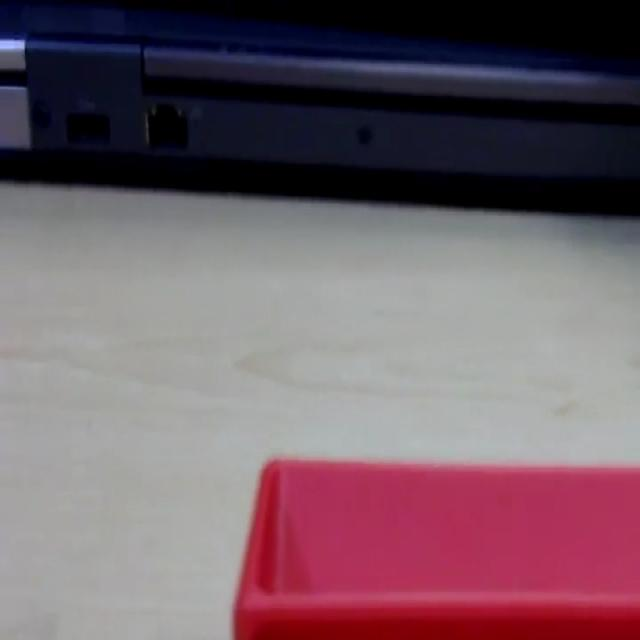red_block: (232, 453, 638, 636)
